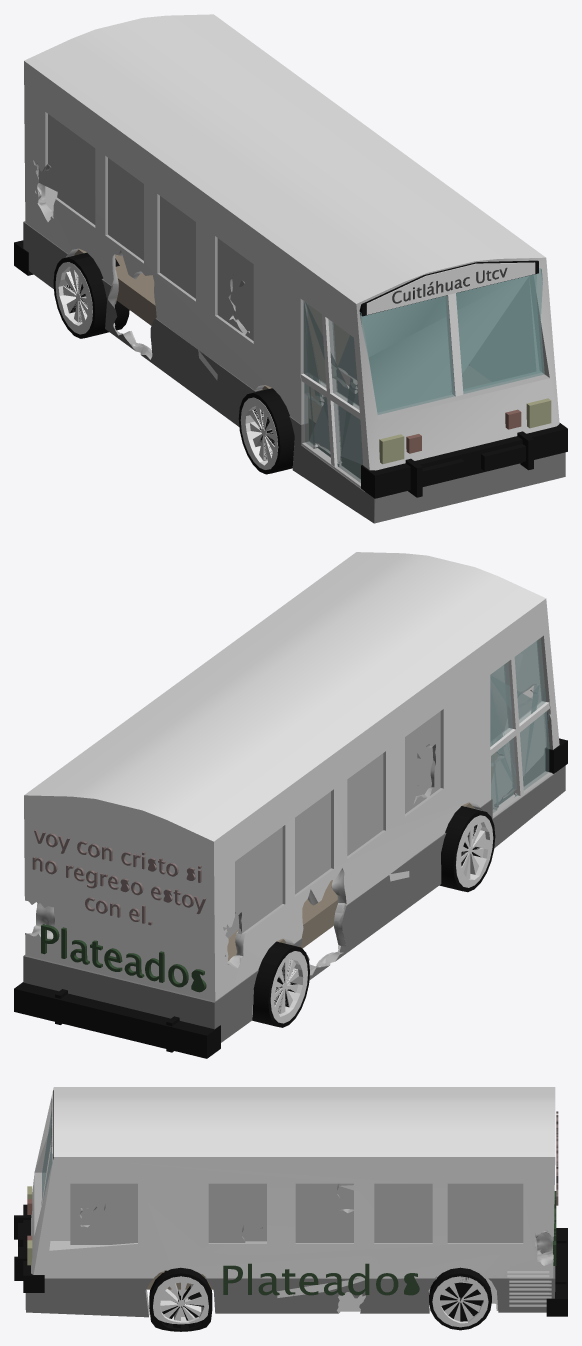
File: autobus1.fbx
3 views of the same model, one above another, from view 1: azimuth 30°, elevation 25°; view 2: azimuth 150°, elevation 25°; view 3: azimuth 270°, elevation 25° (orthographic). The views are drawn at different scales.
Visible parts, largest first — view 1: polySurface44; view 2: polySurface44; view 3: polySurface44.
Boxes of the visible parts, left/top/right/bottom form: polySurface44: left=14, top=14, right=567, bottom=523; polySurface44: left=14, top=552, right=567, bottom=1058; polySurface44: left=14, top=1087, right=567, bottom=1331.
Size of the model in its own units: 3.8 by 4.19 by 11.51.
